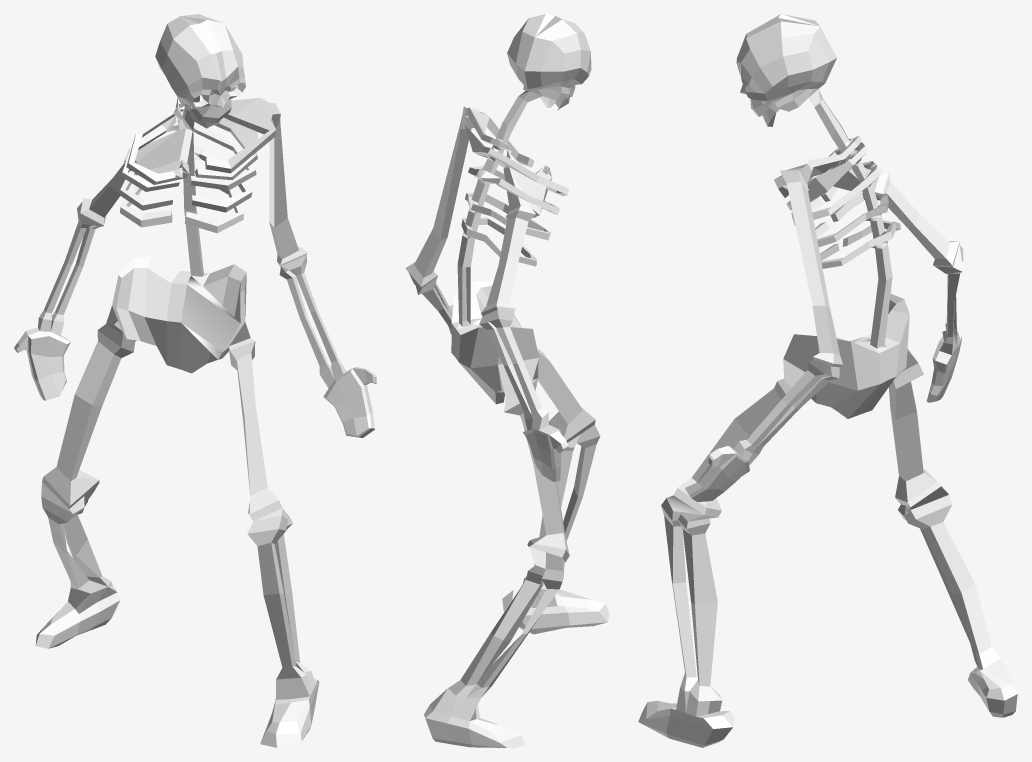
Rendered from SkeletonIdle(115).obj.
The picture shows the model from 3 angles, left to right: view 1: azimuth 30°, elevation 25°; view 2: azimuth 150°, elevation 25°; view 3: azimuth 270°, elevation 25°; orthographic projection. The views are drawn at different scales.
Visible parts, largest first — view 1: Object002; view 2: Object002; view 3: Object002.
Part boxes in pixels (box(x1,y1,x2,y2)): Object002: box(14, 14, 376, 747); Object002: box(405, 14, 609, 747); Object002: box(638, 14, 1017, 747).
Bounding box in the file's own units: 419 × 1122 × 556.
